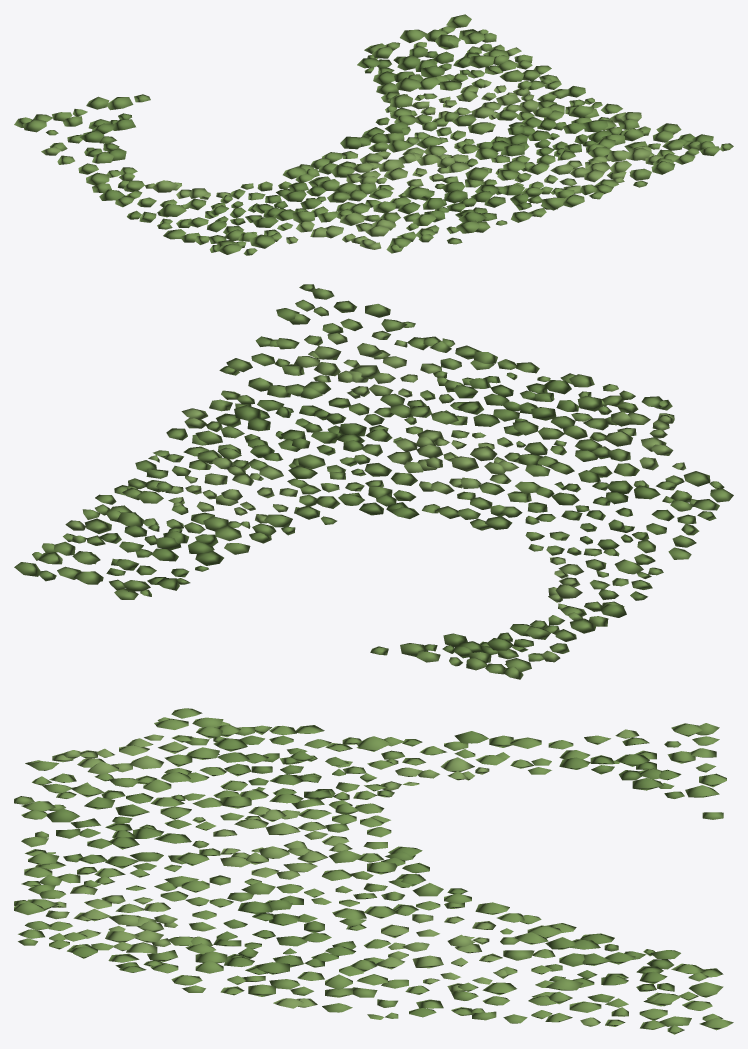
Rendered from canopy-1--3-2.glb.
3 renders of one model, top to bottom at view 1: azimuth 30°, elevation 25°; view 2: azimuth 150°, elevation 25°; view 3: azimuth 270°, elevation 25°, orthographic. The views are drawn at different scales.
Size of the model in its own units: 515 by 77.5 by 515.
Materials: 1 (1 with a texture image).
